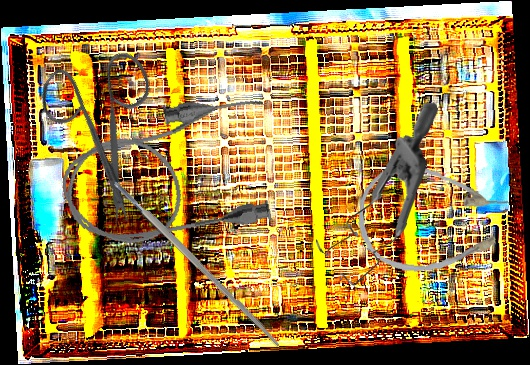Cannula: (49, 86, 288, 262), (354, 159, 512, 281)
Iris Scissors: (5, 24, 212, 229)
Scalpel Handle: (111, 177, 283, 349)
Speculum: (311, 102, 444, 288)
